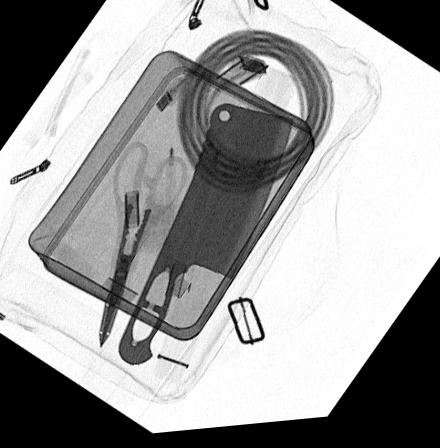Knife: (118, 106, 293, 370)
Scissors: (99, 143, 187, 350)
